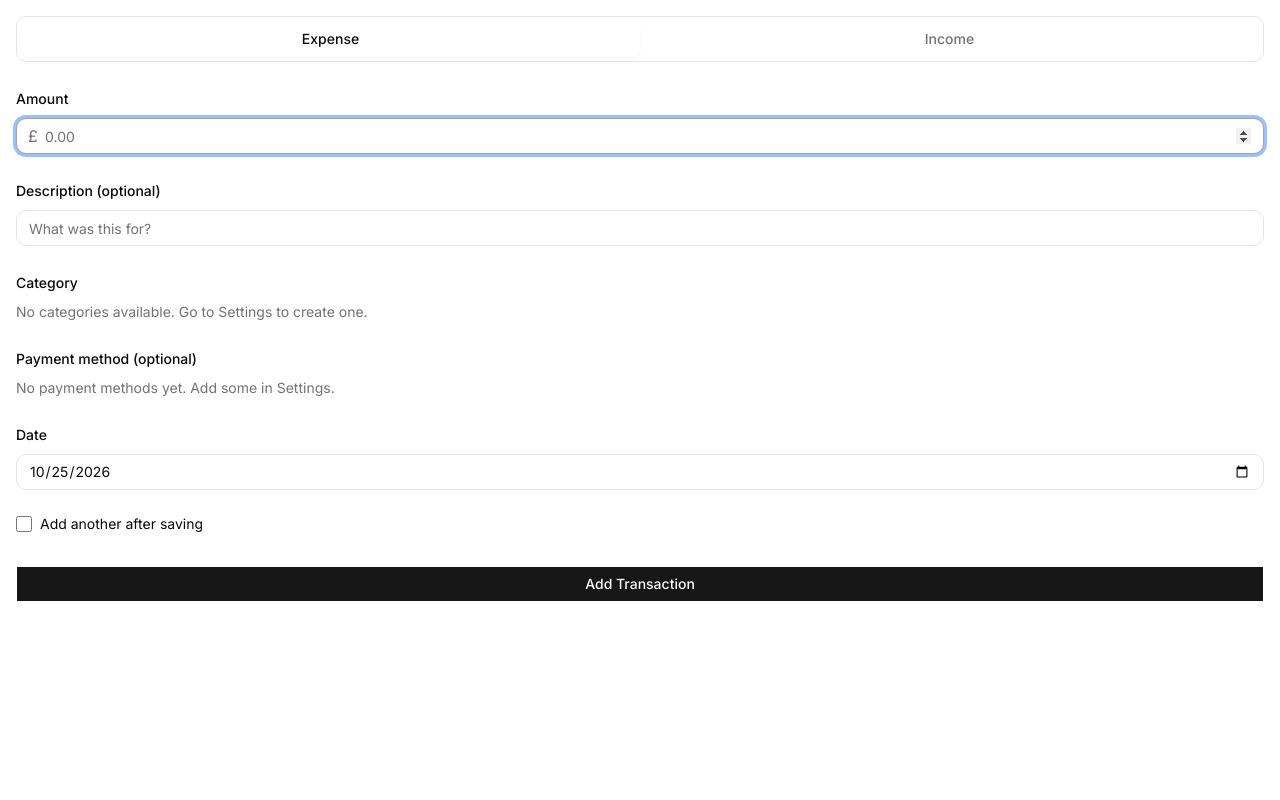
Test: TransactionForm — amount validation (KAN-55) › blocks submit when amount is invalid
Click the button "Add Transaction".
click(640, 584)  # box [16, 566, 1264, 602]
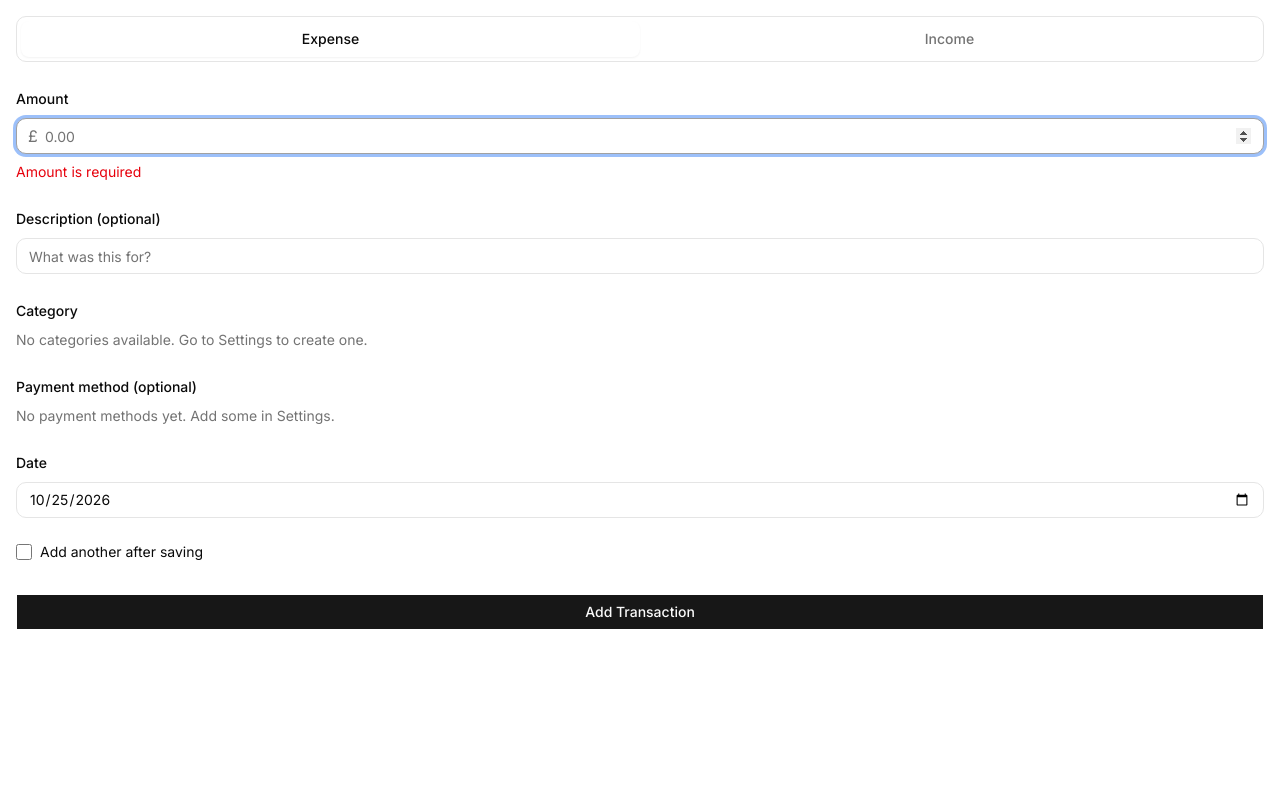
Expected: the text "Amount is required" is shown, [16, 163, 141, 180]
